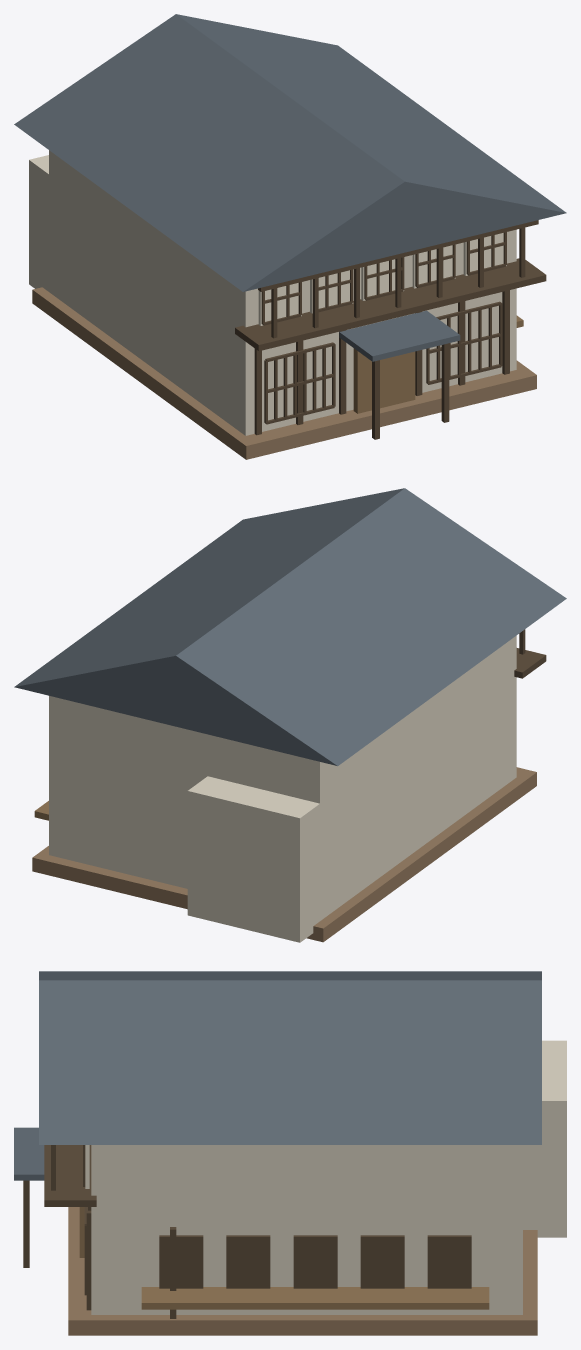
The model's file is asset_proof_hatago.glb.
3 renders of one model, top to bottom at view 1: azimuth 30°, elevation 25°; view 2: azimuth 150°, elevation 25°; view 3: azimuth 270°, elevation 25°, orthographic. The views are drawn at different scales.
Parts seen in each view (by area): view 1: inn_main_roof, inn_body, inn_plinth, inn_gallery_deck, inn_rear_wing, inn_entry_roof, inn_recess, inn_gallery_top, inn_shoji_0, inn_shoji_3, inn_shoji_4, inn_shoji_1 (+6 smaller); view 2: inn_main_roof, inn_body, inn_rear_wing, inn_plinth, inn_gallery_deck; view 3: inn_main_roof, inn_body, inn_plinth, inn_side_walk, inn_rear_wing, inn_gallery_deck, inn_side_shutter.001, inn_side_shutter.002, inn_side_shutter.003, inn_side_shutter.004, inn_side_shutter, inn_entry_roof (+3 smaller).
Part boxes in pixels (left/top/right/bottom): inn_main_roof: left=14, top=14, right=566, bottom=291; inn_body: left=49, top=150, right=516, bottom=435; inn_plinth: left=32, top=287, right=536, bottom=459; inn_gallery_deck: left=235, top=258, right=546, bottom=351; inn_rear_wing: left=29, top=155, right=80, bottom=314; inn_entry_roof: left=339, top=310, right=460, bottom=361; inn_recess: left=353, top=348, right=415, bottom=413; inn_gallery_top: left=258, top=220, right=538, bottom=291; inn_shoji_0: left=258, top=283, right=301, bottom=325; inn_shoji_3: left=412, top=245, right=455, bottom=288; inn_shoji_4: left=463, top=233, right=506, bottom=275; inn_shoji_1: left=310, top=270, right=353, bottom=313; inn_main_roof: left=14, top=488, right=566, bottom=765; inn_body: left=49, top=635, right=516, bottom=920; inn_rear_wing: left=187, top=776, right=351, bottom=942; inn_plinth: left=32, top=767, right=536, bottom=942; inn_gallery_deck: left=514, top=648, right=546, bottom=678; inn_main_roof: left=39, top=971, right=541, bottom=1144; inn_body: left=91, top=1145, right=522, bottom=1314; inn_plinth: left=68, top=1207, right=537, bottom=1335; inn_side_walk: left=141, top=1287, right=489, bottom=1309; inn_rear_wing: left=523, top=1040, right=566, bottom=1237; inn_gallery_deck: left=44, top=1145, right=96, bottom=1206; inn_side_shutter.001: left=226, top=1235, right=270, bottom=1288; inn_side_shutter.002: left=293, top=1235, right=337, bottom=1288; inn_side_shutter.003: left=360, top=1235, right=404, bottom=1288; inn_side_shutter.004: left=427, top=1235, right=471, bottom=1288; inn_side_shutter: left=159, top=1235, right=203, bottom=1288; inn_entry_roof: left=14, top=1127, right=44, bottom=1180.
Bounding box in the file's own units: 9.9 × 7.3 × 13.19.
